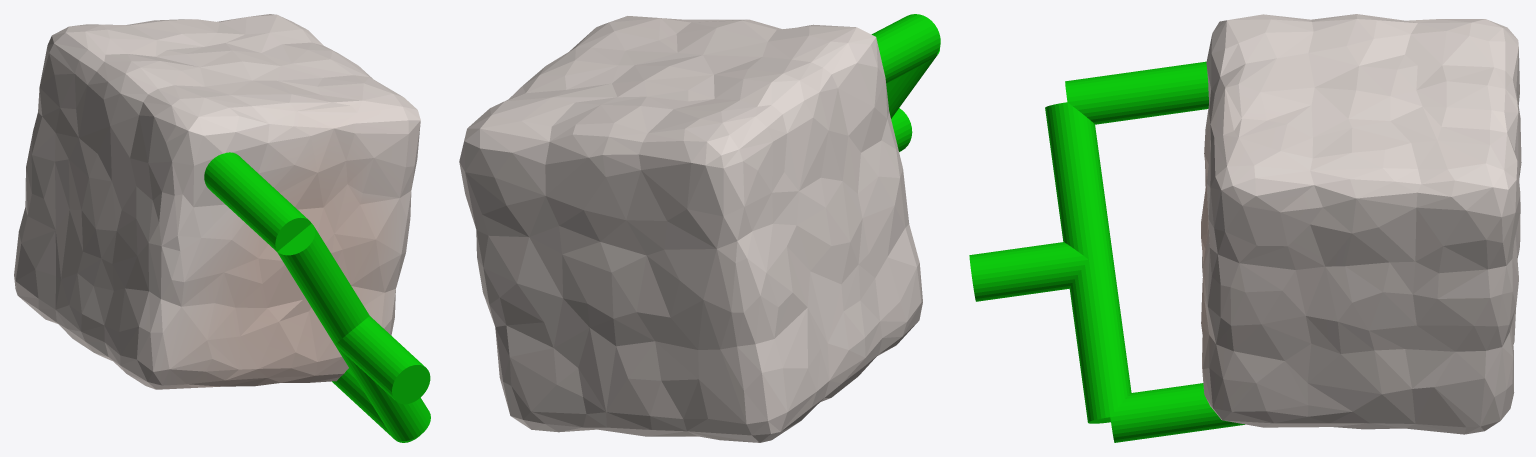
The model's file is round_000_trial_001.obj.
The picture shows the model from 3 angles, left to right: view 1: azimuth 30°, elevation 25°; view 2: azimuth 150°, elevation 25°; view 3: azimuth 270°, elevation 25°; orthographic projection. The views are drawn at different scales.
Visible parts, largest first — view 1: geometry_0, geometry_1; view 2: geometry_0, geometry_1; view 3: geometry_0, geometry_1.
Part boxes in pixels (x1=…): geometry_0: x1=14, y1=14, x2=420, y2=389; geometry_1: x1=204, y1=152, x2=430, y2=442; geometry_0: x1=459, y1=16, x2=922, y2=442; geometry_1: x1=871, y1=14, x2=940, y2=151; geometry_0: x1=1201, y1=14, x2=1521, y2=434; geometry_1: x1=969, y1=61, x2=1244, y2=442.
Bounding box in the file's own units: 0.0743 × 0.0801 × 0.1167.
